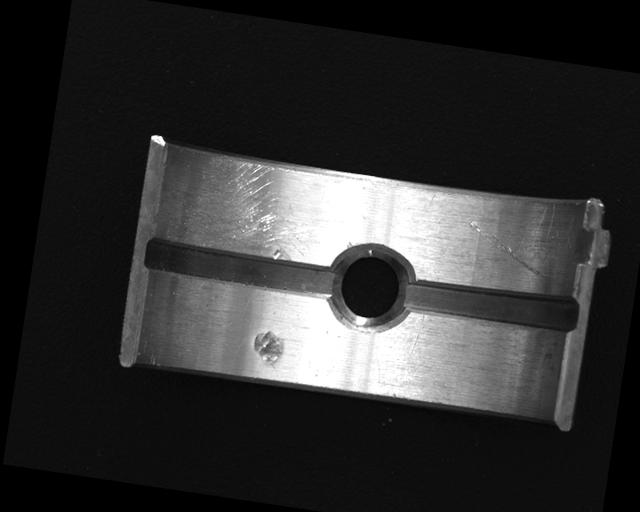bruise: (249, 326, 286, 369)
gap: (143, 233, 343, 301), (401, 274, 580, 336)
hole: (325, 241, 417, 337)
nick: (463, 218, 554, 282)
scratch: (160, 146, 352, 267)
